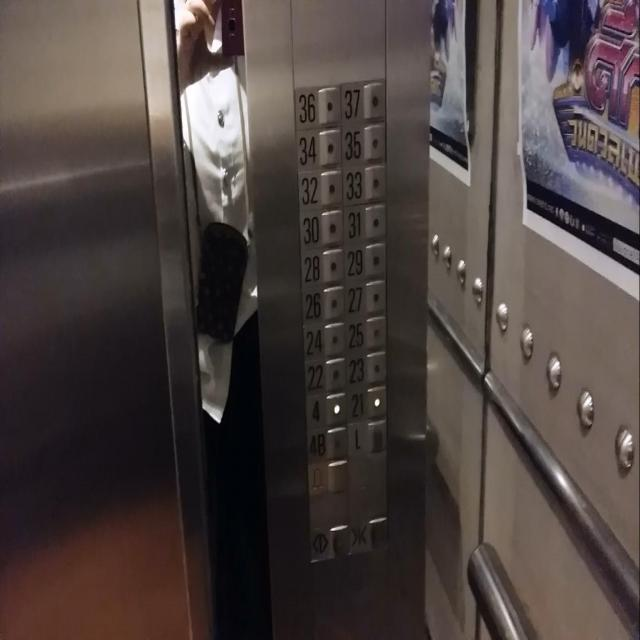21: (347, 386, 388, 422)
22: (303, 358, 348, 394)
23: (346, 349, 389, 386)
24: (302, 320, 346, 362)
25: (344, 314, 386, 352)
26: (302, 284, 345, 324)
27: (344, 276, 386, 316)
28: (299, 246, 343, 288)
29: (344, 238, 385, 281)
30: (297, 202, 343, 251)
31: (342, 200, 387, 243)
32: (297, 168, 343, 208)
33: (342, 161, 387, 204)
34: (295, 124, 342, 170)
35: (341, 120, 386, 166)
36: (294, 86, 340, 128)
37: (340, 78, 386, 124)
4: (303, 390, 345, 427)
4B: (306, 425, 346, 462)
L: (347, 419, 388, 453)
alarm: (308, 458, 347, 495)
close: (349, 516, 388, 552)
open: (310, 526, 350, 559)
